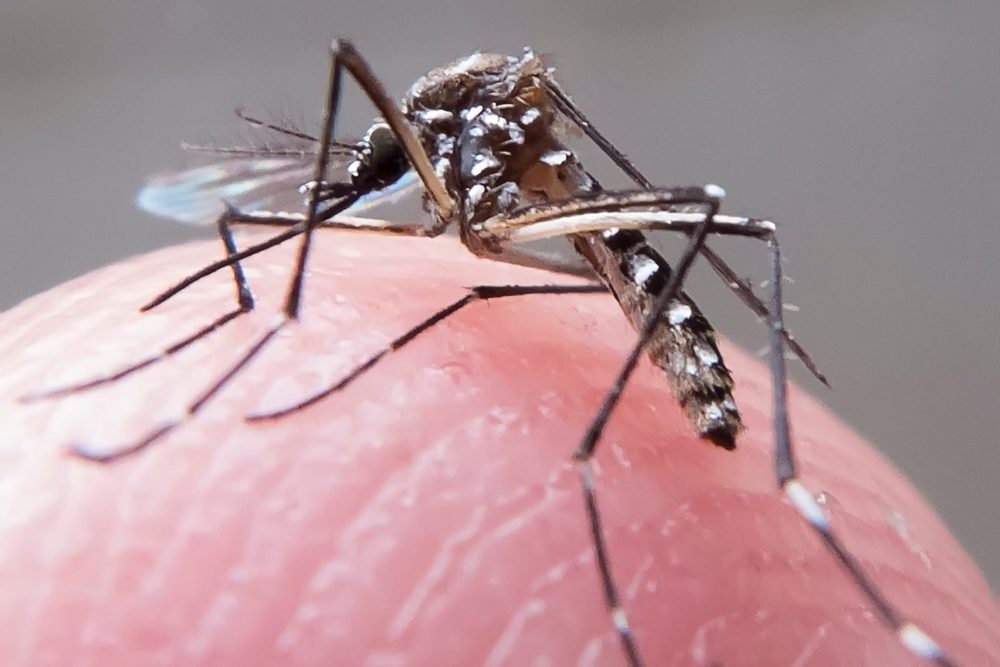dengue_mosquito: (79, 38, 835, 475)
